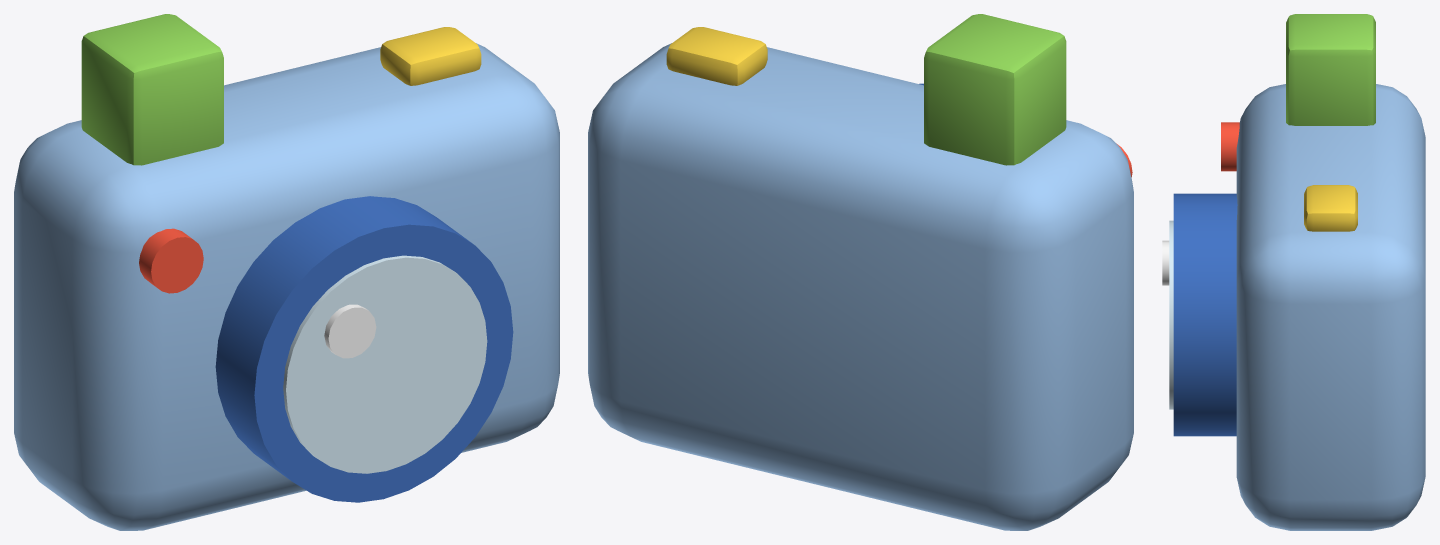
File: CameraIcon.glb
3 renders of one model, left to right at view 1: azimuth 30°, elevation 25°; view 2: azimuth 150°, elevation 25°; view 3: azimuth 270°, elevation 25°, orthographic. The views are drawn at different scales.
Visible parts, largest first — view 1: CameraIcon; view 2: CameraIcon; view 3: CameraIcon.
Boxes of the visible parts, left/top/right/bottom form: CameraIcon: left=14, top=14, right=559, bottom=530; CameraIcon: left=588, top=14, right=1133, bottom=530; CameraIcon: left=1162, top=14, right=1425, bottom=530.
Size of the model in its own units: 1 by 0.91 by 0.585.
Materials: 1 (1 with a texture image).
